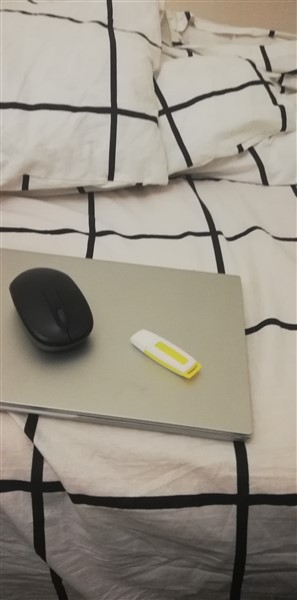flash disk: (125, 324, 208, 383)
laptop: (1, 248, 255, 428)
mouse: (11, 257, 95, 360)
